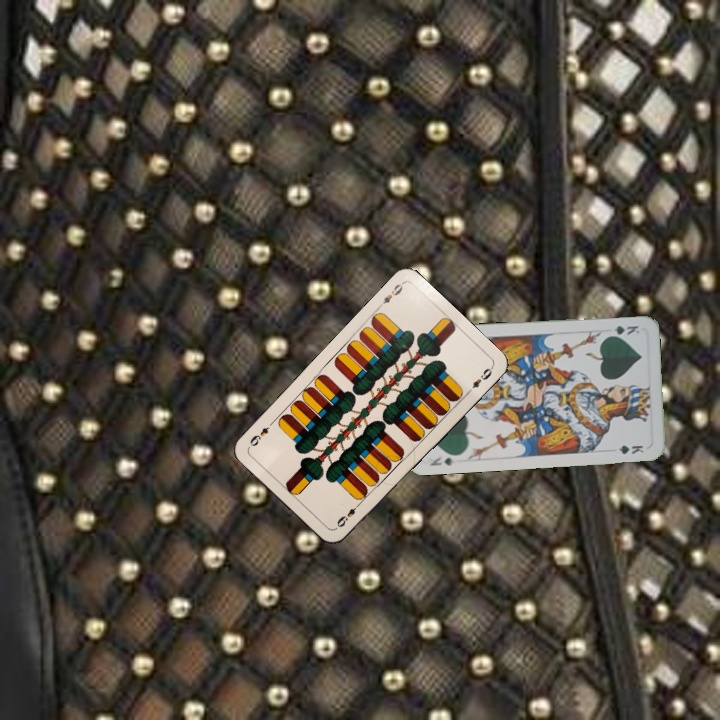E9: (332, 498, 364, 531), (374, 279, 406, 311)
GK: (603, 321, 642, 339), (426, 452, 458, 468)
